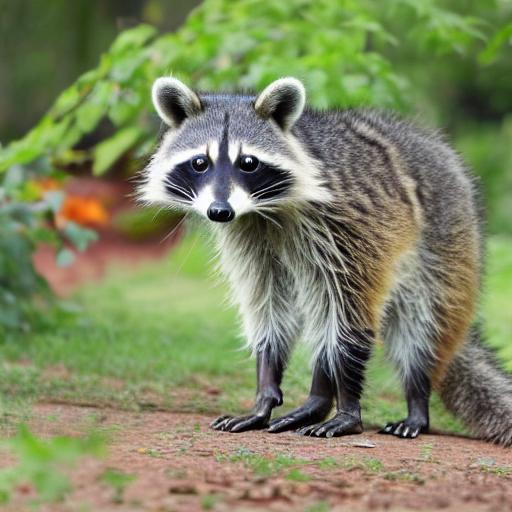raccoon: (125, 62, 512, 379)
